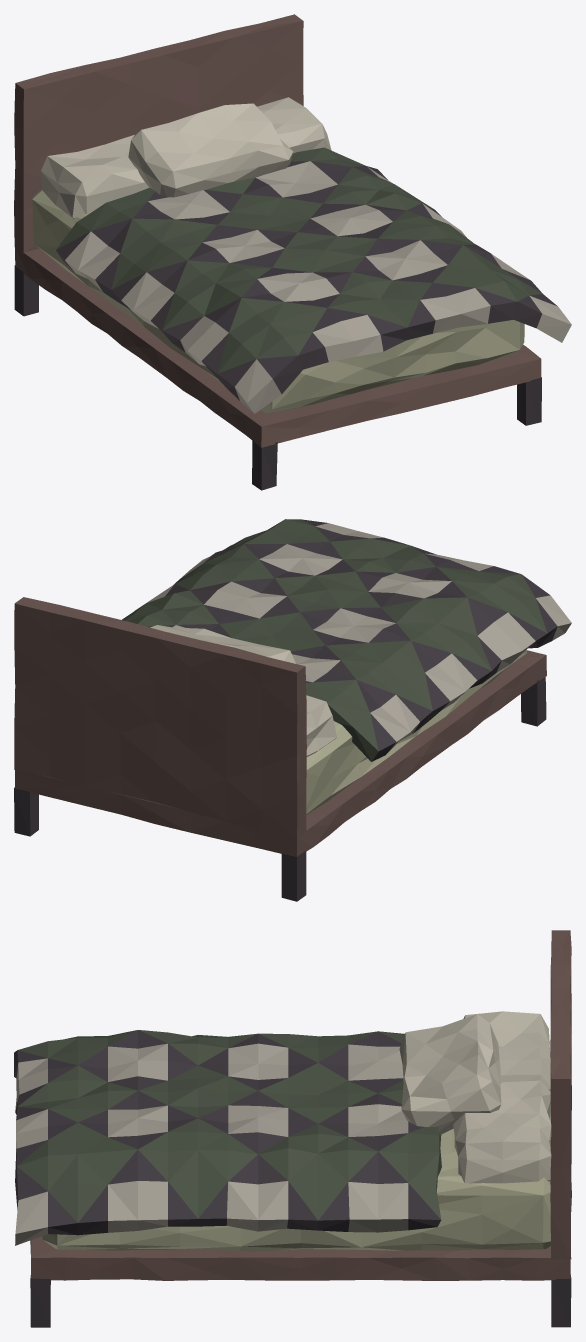
The model's file is bedroom_bed.fbx.
3 views of the same model, one above another, from view 1: azimuth 30°, elevation 25°; view 2: azimuth 150°, elevation 25°; view 3: azimuth 270°, elevation 25° (orthographic). The views are drawn at different scales.
Visible parts, largest first — view 1: bedroom_bed; view 2: bedroom_bed; view 3: bedroom_bed.
Part boxes in pixels (x1,y1,x2,y2): bedroom_bed: [14, 14, 571, 490]; bedroom_bed: [14, 519, 571, 901]; bedroom_bed: [14, 930, 571, 1327].
Size of the model in its own units: 127 by 83.74 by 170.
